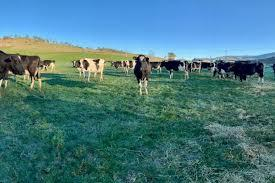cow: (0, 50, 25, 88), (227, 64, 265, 83), (134, 54, 151, 95), (159, 61, 187, 81), (80, 58, 103, 81), (42, 61, 55, 71)
